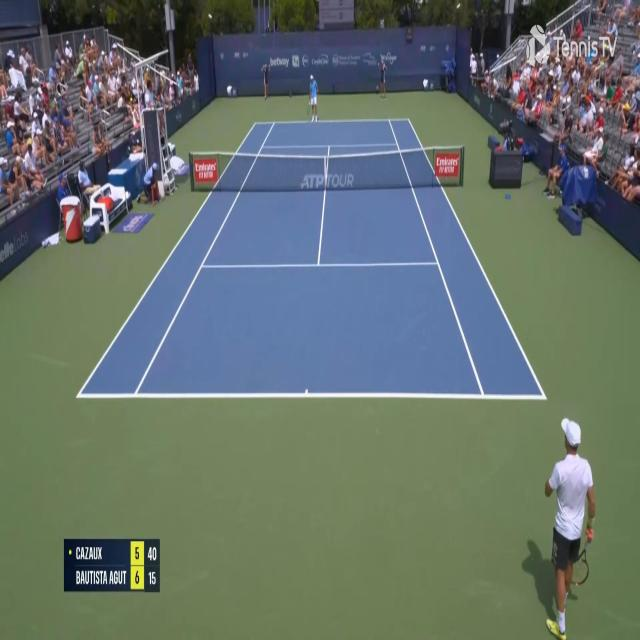tennis-player: (522, 413, 597, 640), (307, 72, 318, 124)
